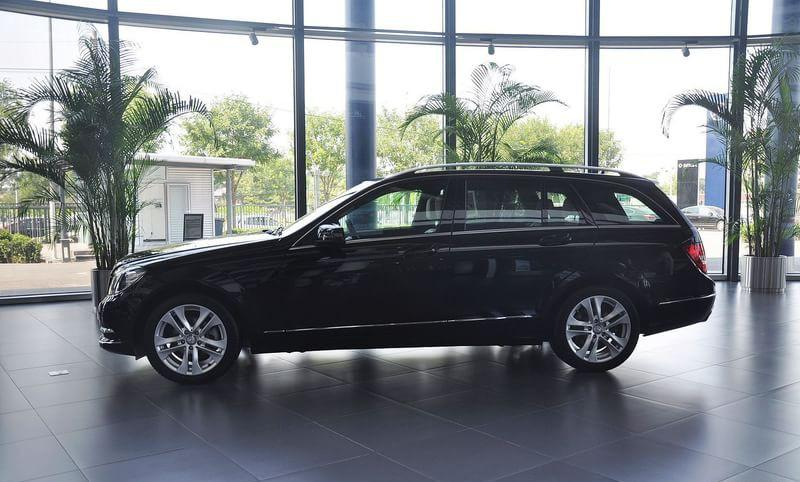Wagon: (98, 161, 717, 386)
